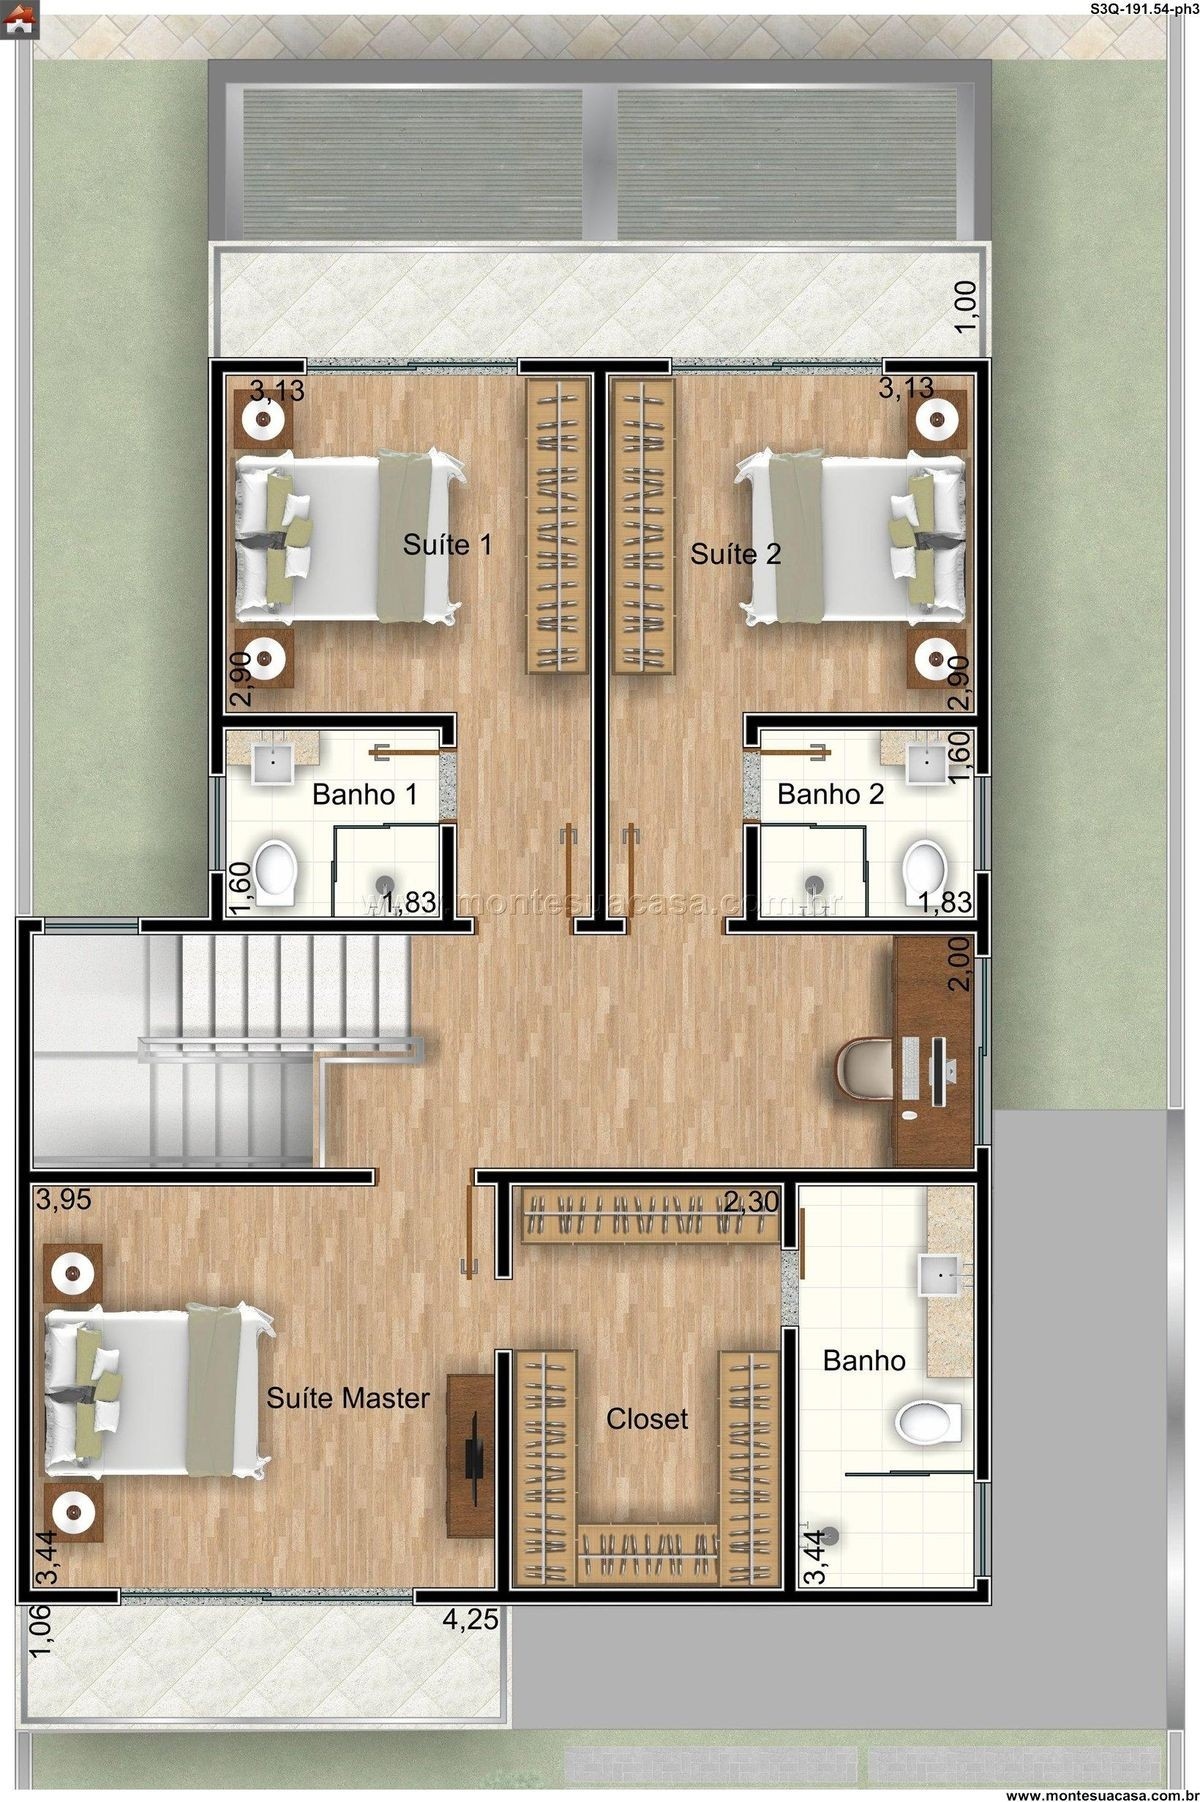wall: (19, 921, 32, 1605), (417, 1590, 990, 1604), (593, 361, 607, 914), (474, 1170, 986, 1183), (210, 359, 224, 775), (28, 1170, 375, 1185), (976, 367, 988, 775), (976, 1147, 990, 1483), (142, 918, 471, 932), (783, 1329, 798, 1600), (497, 1351, 512, 1603), (220, 714, 454, 728), (729, 921, 984, 933), (745, 718, 976, 728), (521, 360, 670, 372), (496, 1169, 512, 1279), (441, 823, 455, 930), (887, 359, 991, 374), (746, 823, 759, 936), (15, 1590, 117, 1604), (976, 873, 991, 959), (212, 360, 301, 374), (783, 1171, 796, 1248), (210, 873, 225, 932), (577, 918, 625, 933), (745, 714, 759, 748), (441, 716, 455, 747), (19, 921, 44, 930)
